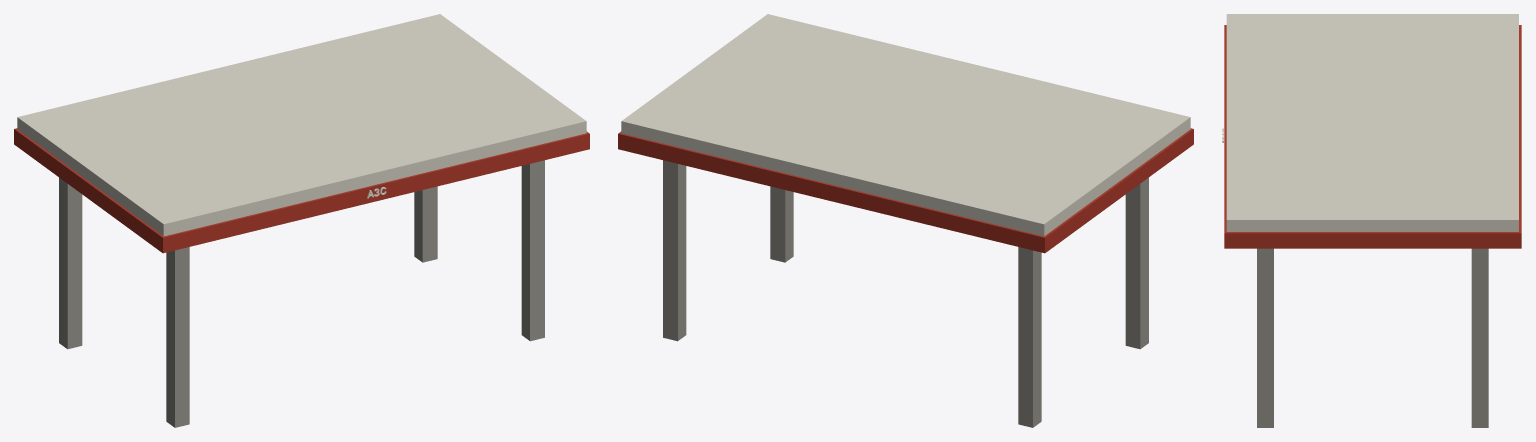
File: gas_canopy.glb
3 renders of one model, left to right at view 1: azimuth 30°, elevation 25°; view 2: azimuth 150°, elevation 25°; view 3: azimuth 270°, elevation 25°, orthographic.
Parts seen in each view (by area): view 1: GasCanopy; view 2: GasCanopy; view 3: GasCanopy.
Part boxes in pixels (x1=…): GasCanopy: x1=14, y1=14, x2=589, y2=427; GasCanopy: x1=618, y1=14, x2=1193, y2=427; GasCanopy: x1=1222, y1=14, x2=1521, y2=427.
Size of the model in its own units: 10.1 by 5 by 6.13.
